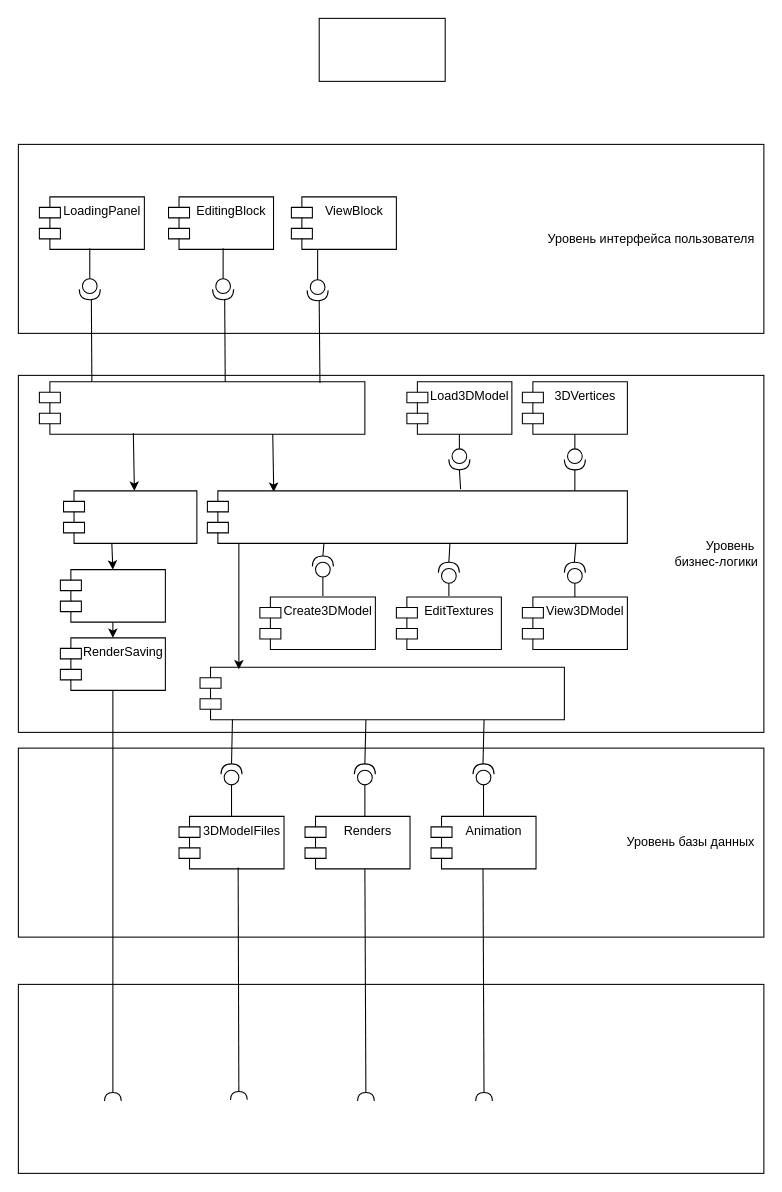
Some shapes in this 782 by 1192 pixel diagram are drawn without their labels. Each missing label, with the centre of its shape:
3DModelController: the point at 416,516
AppController: the point at 201,407
FileSysytemController: the point at 381,693
Render: the point at 112,595
RenderController: the point at 129,516
Редактор 3d графики: the point at 381,49
Файловая система: the point at 390,1078
